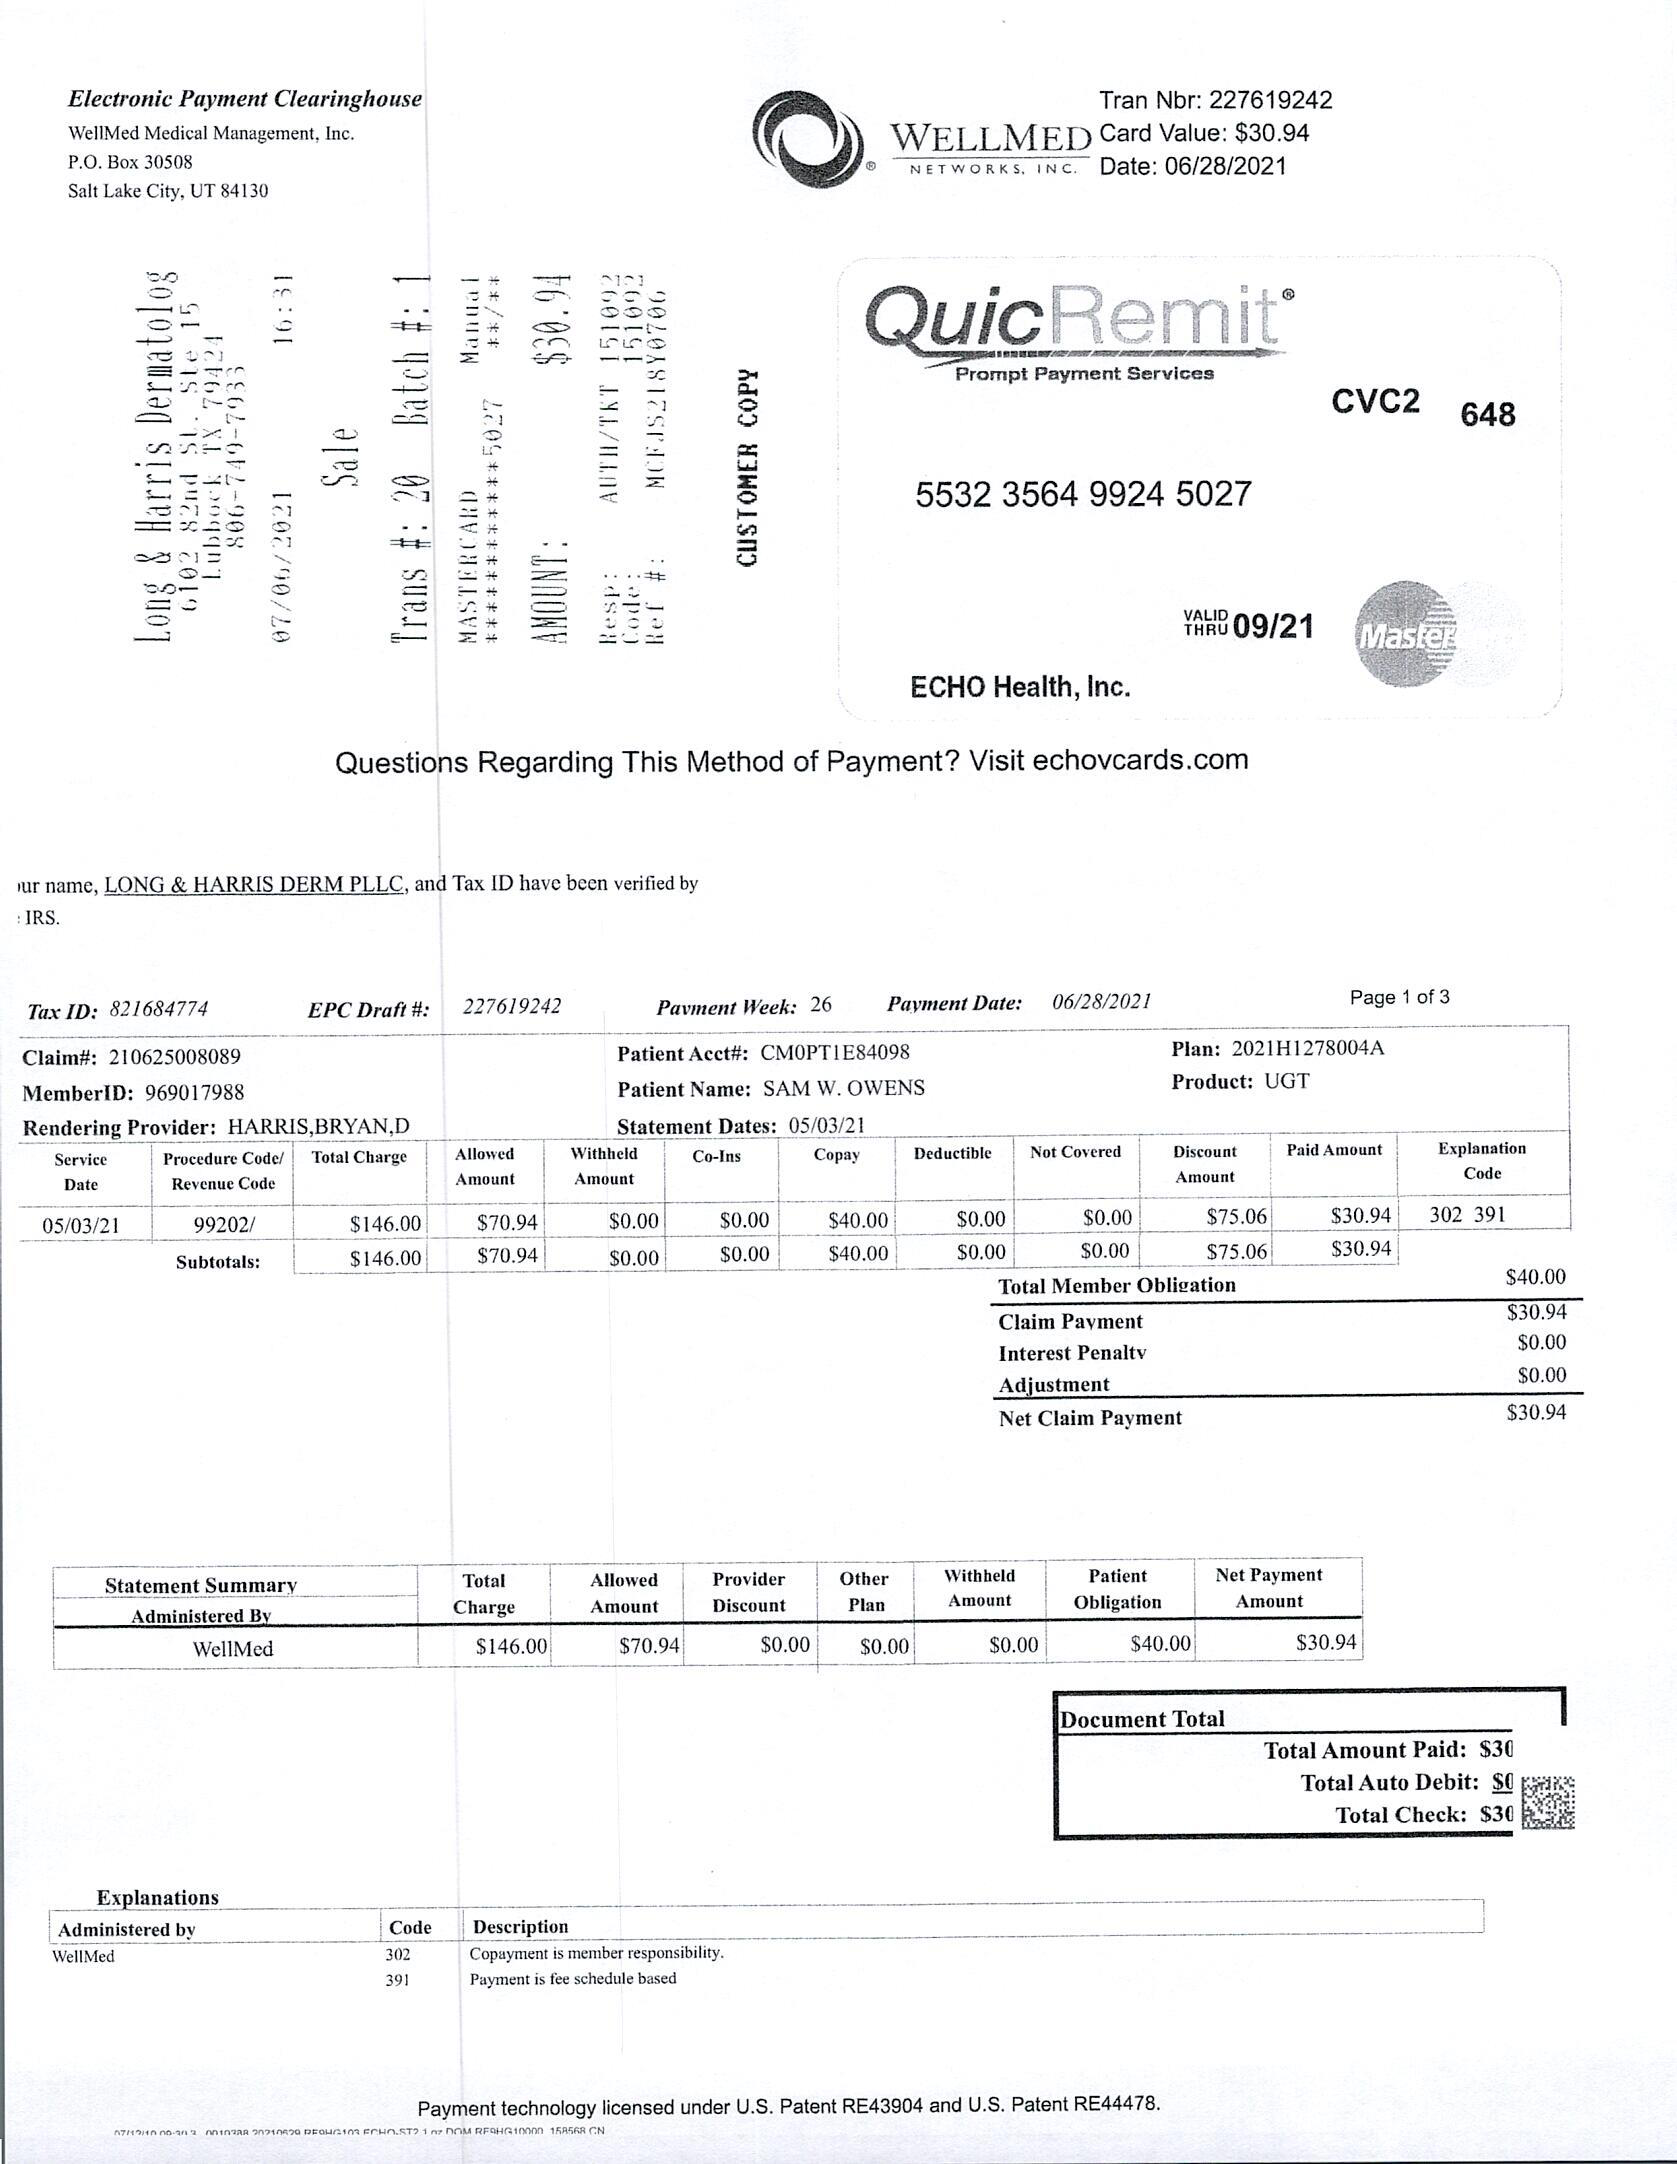table: (14, 989, 1573, 1266), (37, 1539, 1400, 1683)
